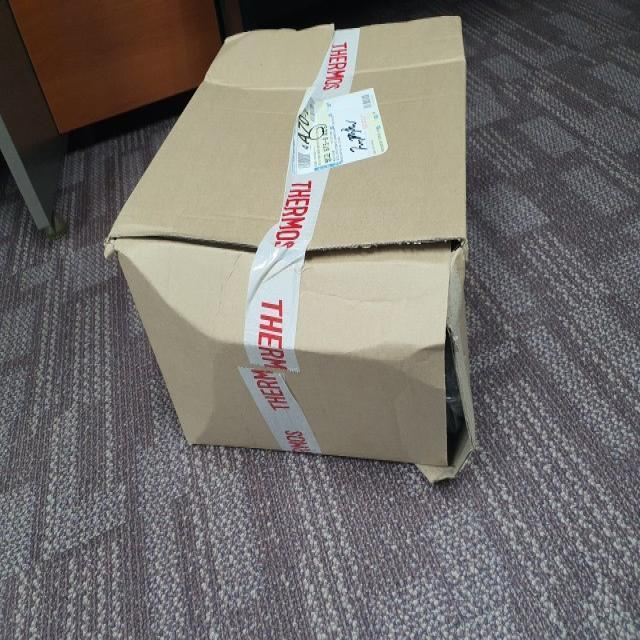hole: (432, 321, 468, 481)
